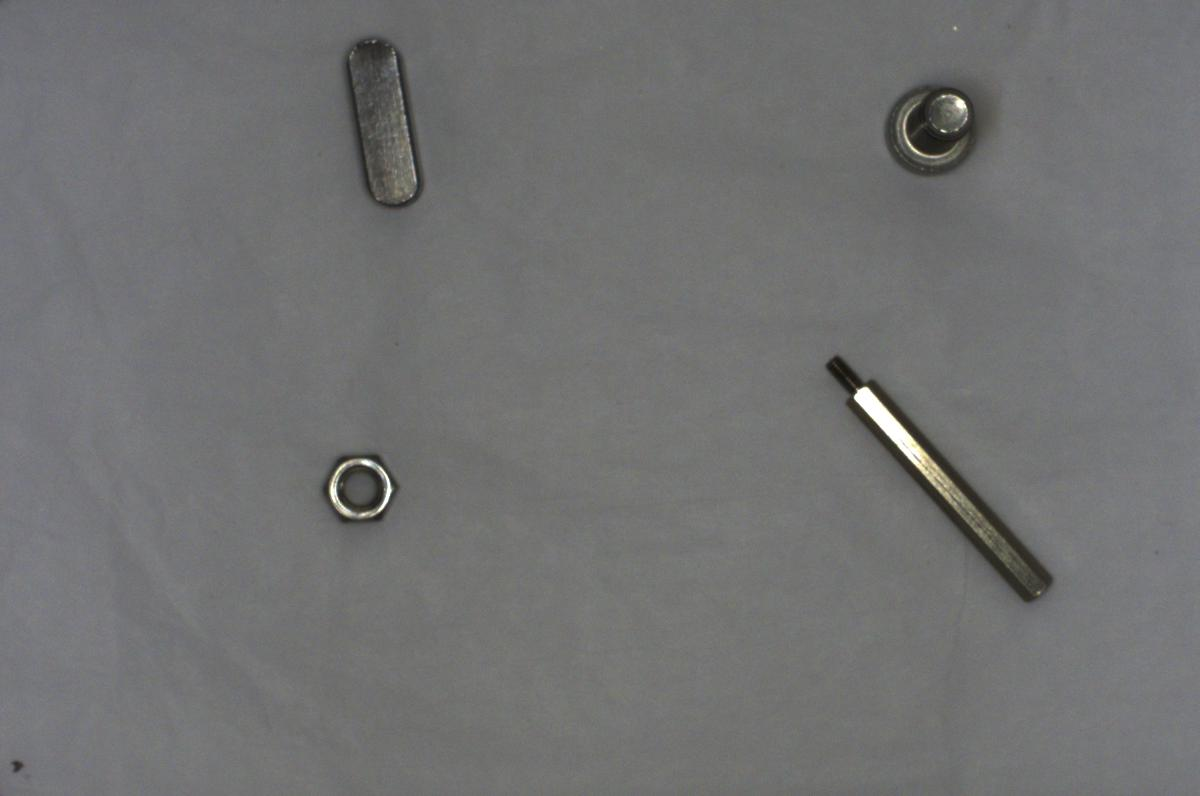Hexagon nut: (314, 449, 406, 527)
Hexagon screw: (879, 81, 984, 185)
Hexagonal steel column: (824, 349, 1061, 605)
Keybar: (344, 29, 422, 216)
